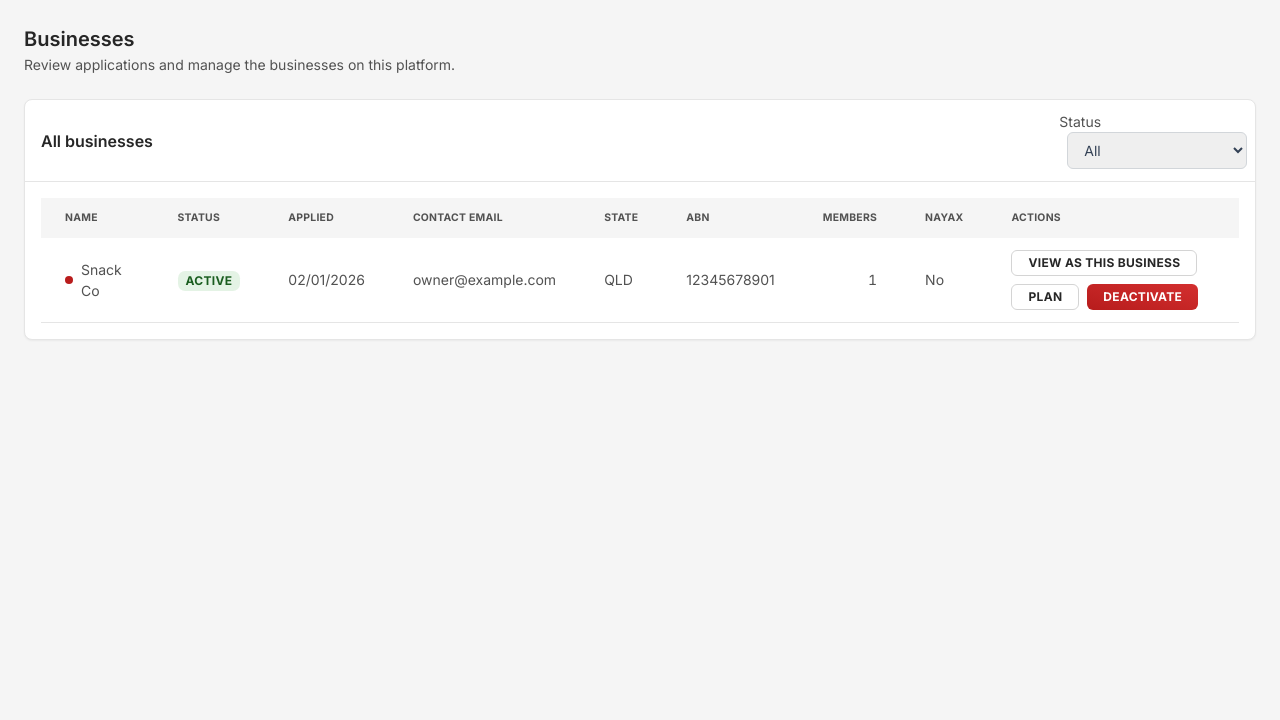
Test case: SuperAdminBusinessesComponent (issue #547) › reports a saved grant and closes the dialog when it is dismissed (issue #982)
Click the button "Plan" at point(1045, 297), box [1012, 284, 1079, 310]
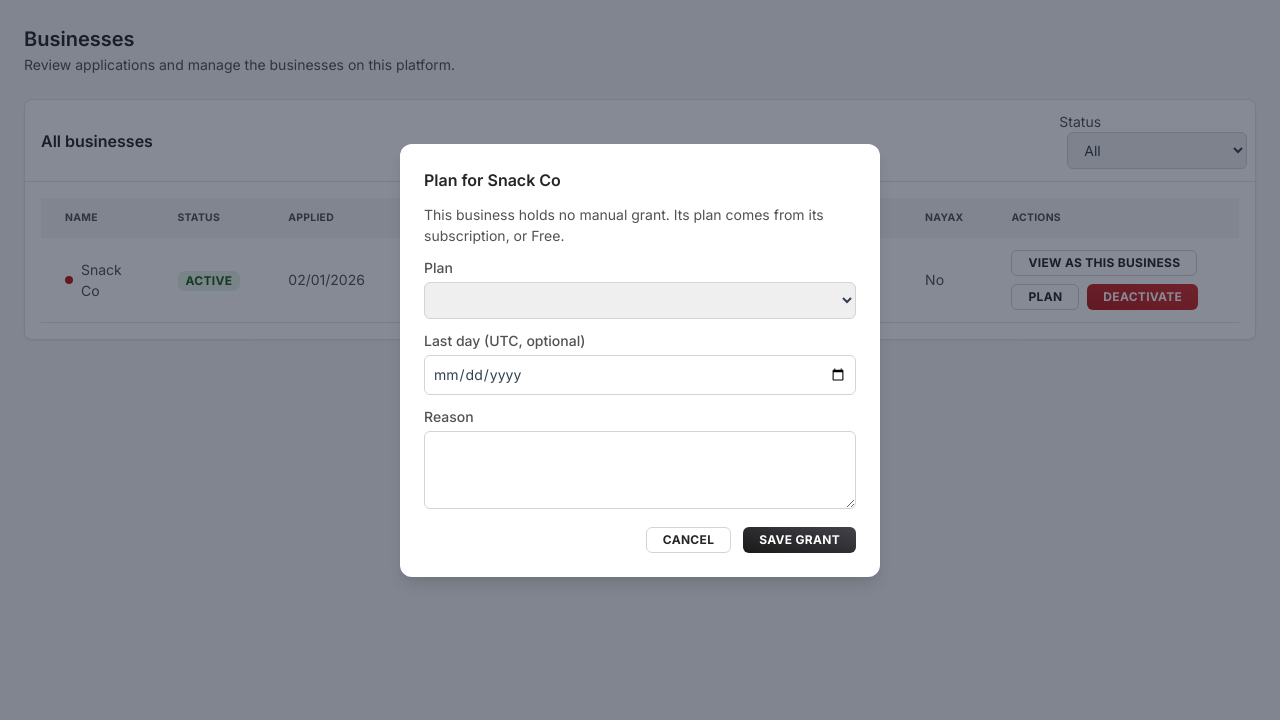
Type "Complimentary pilot" into the text box with id "grant-reason" at point(640, 470), box [424, 430, 856, 508]
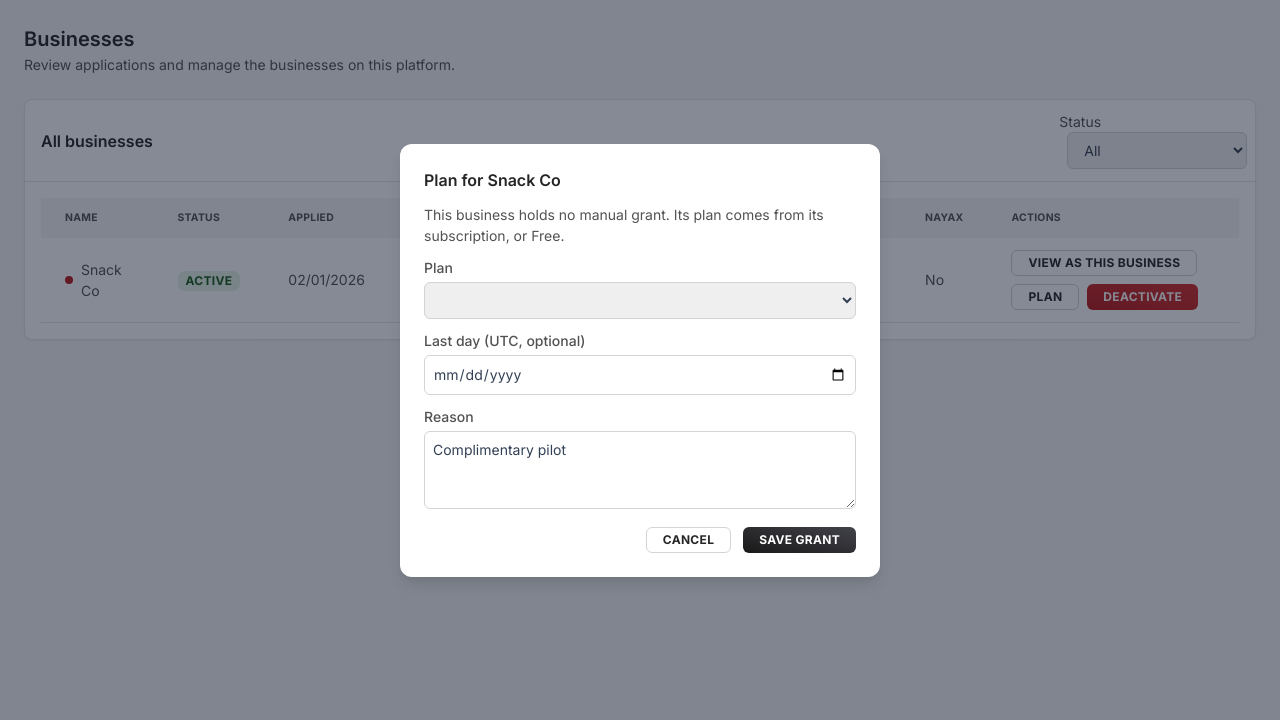
Now the button "Save grant" is shown
Click the button "Save grant" at point(800, 540), box [743, 526, 856, 552]
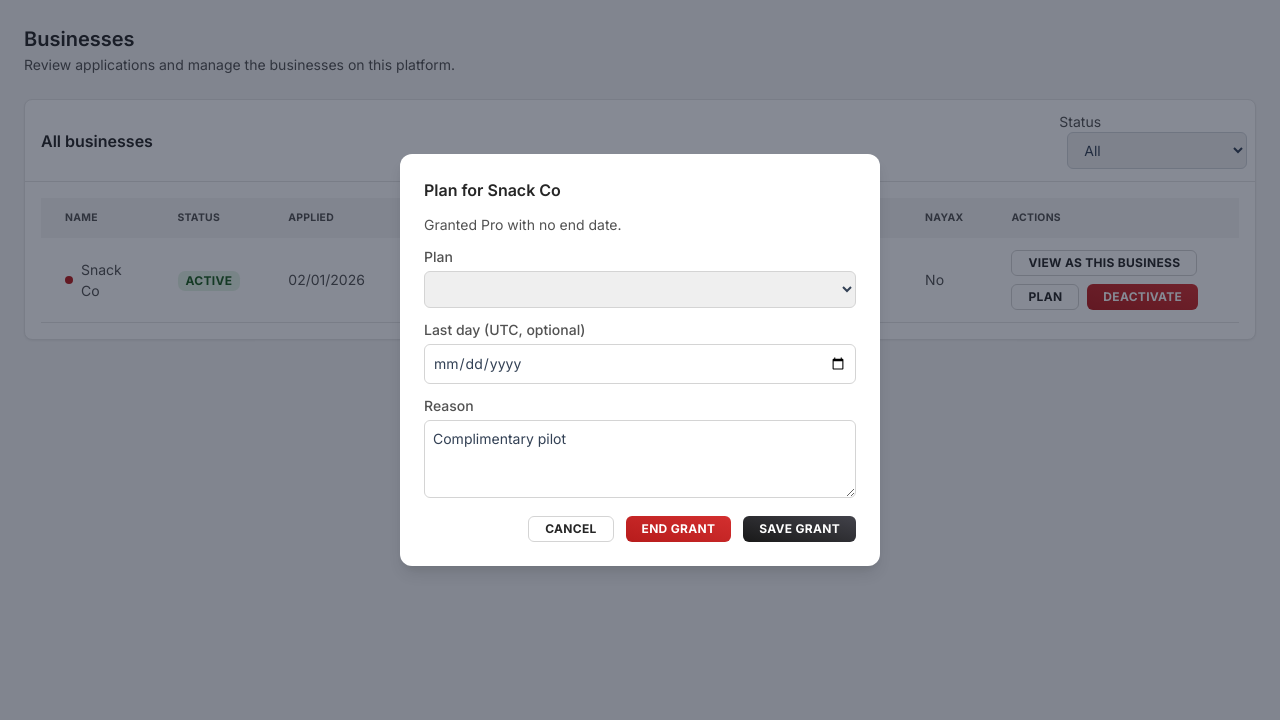
Now the button "Cancel" is shown
Click the button "Cancel" at point(571, 529), box [528, 516, 614, 542]
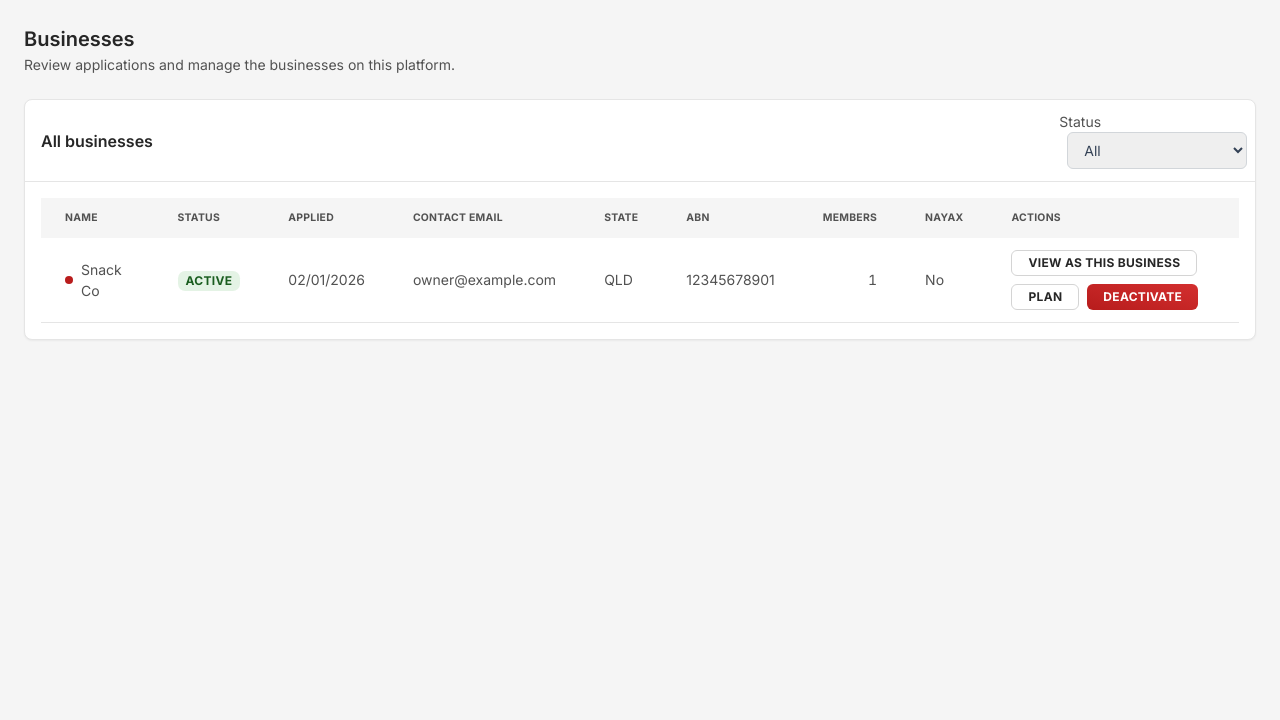
Now the text "Plan for Snack Co" is gone
